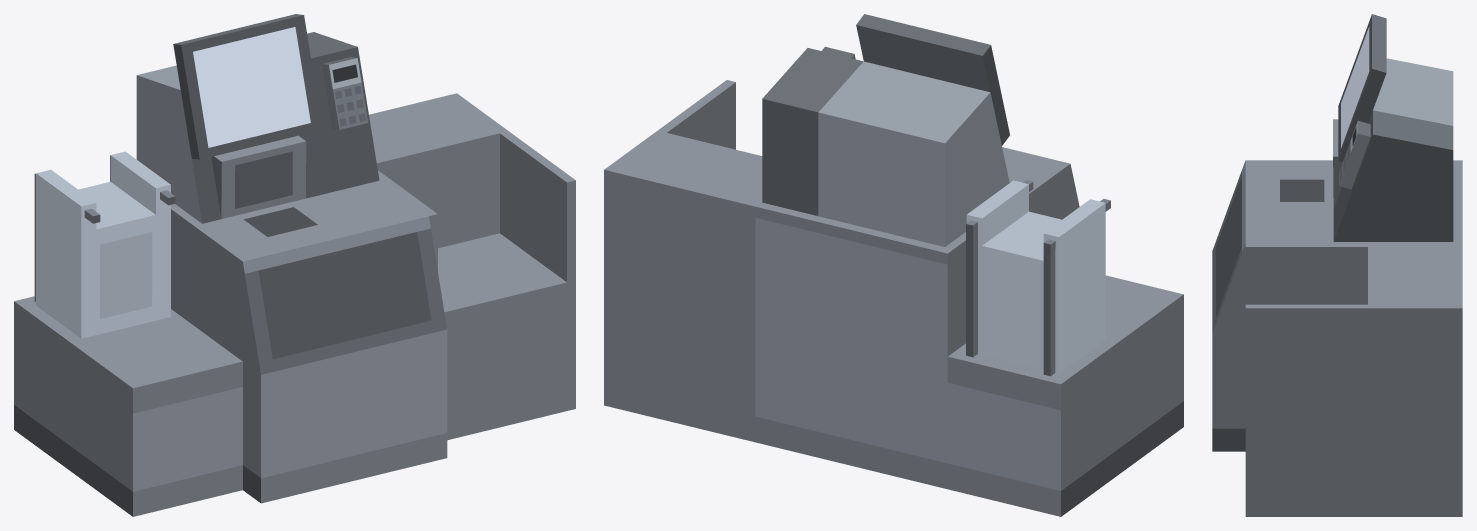
The model's file is SelfCheckout.glb.
3 views of the same model, side by side, from view 1: azimuth 30°, elevation 25°; view 2: azimuth 150°, elevation 25°; view 3: azimuth 270°, elevation 25° (orthographic). The views are drawn at different scales.
Visible parts, largest first — view 1: SI_Prop_SelfCheckout_01; view 2: SI_Prop_SelfCheckout_01; view 3: SI_Prop_SelfCheckout_01.
Boxes of the visible parts, box(x1,y1,x2,y2) form: SI_Prop_SelfCheckout_01: box(14, 14, 575, 516); SI_Prop_SelfCheckout_01: box(604, 14, 1183, 516); SI_Prop_SelfCheckout_01: box(1212, 14, 1462, 516).
Bounding box in the file's own units: 0.0299 × 0.0254 × 0.0161.
Materials: 1 (1 with a texture image).
